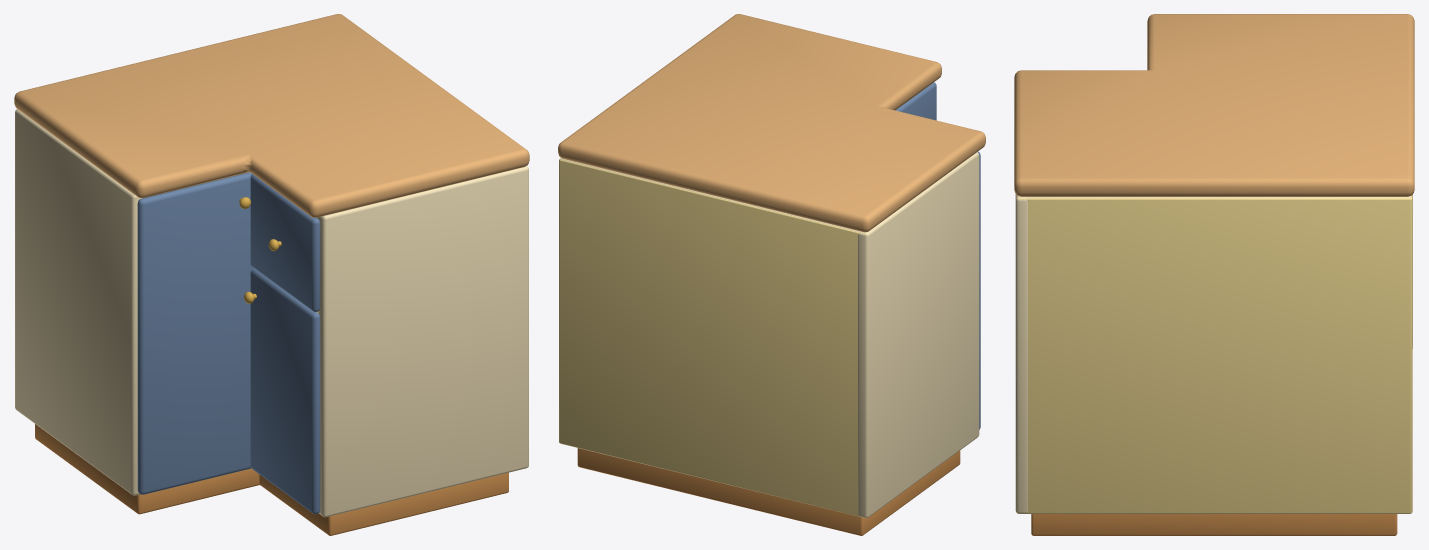
The model's file is armario_cozinha_canto_creme_azul.glb.
3 views of the same model, side by side, from view 1: azimuth 30°, elevation 25°; view 2: azimuth 150°, elevation 25°; view 3: azimuth 270°, elevation 25° (orthographic). The views are drawn at different scales.
Parts seen in each view (by area): view 1: armario_cozinha_canto_creme_azul, porta_1, porta_2, gaveta_1; view 2: armario_cozinha_canto_creme_azul, gaveta_1, porta_1; view 3: armario_cozinha_canto_creme_azul.
Boxes of the visible parts, x1,y1,x2,y2 form: armario_cozinha_canto_creme_azul: [14, 14, 529, 535]; porta_1: [137, 172, 253, 494]; porta_2: [244, 268, 320, 514]; gaveta_1: [250, 173, 320, 311]; armario_cozinha_canto_creme_azul: [558, 14, 985, 535]; gaveta_1: [895, 82, 936, 120]; porta_1: [977, 151, 980, 429]; armario_cozinha_canto_creme_azul: [1014, 14, 1414, 535].
Bounding box in the file's own units: 0.898 × 0.9 × 0.899.
1 material, 1 textured.
